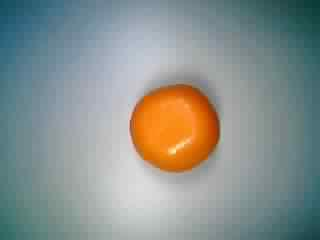orange: (120, 78, 221, 175)
